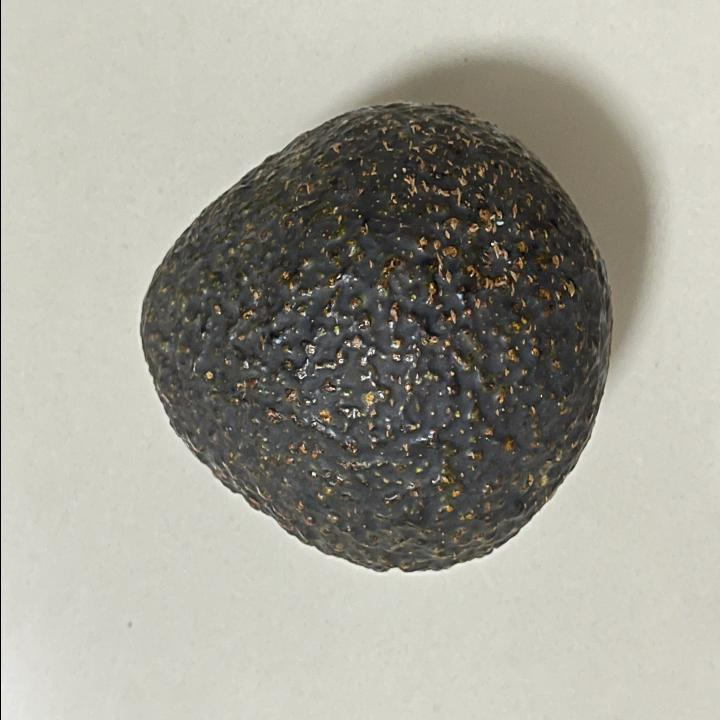Level2: (132, 92, 618, 578)
